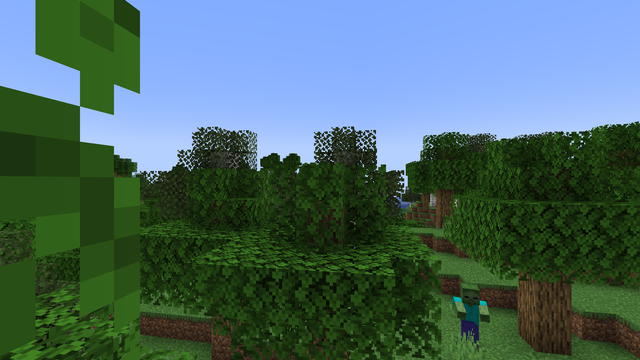zombies: (457, 283, 483, 351)
